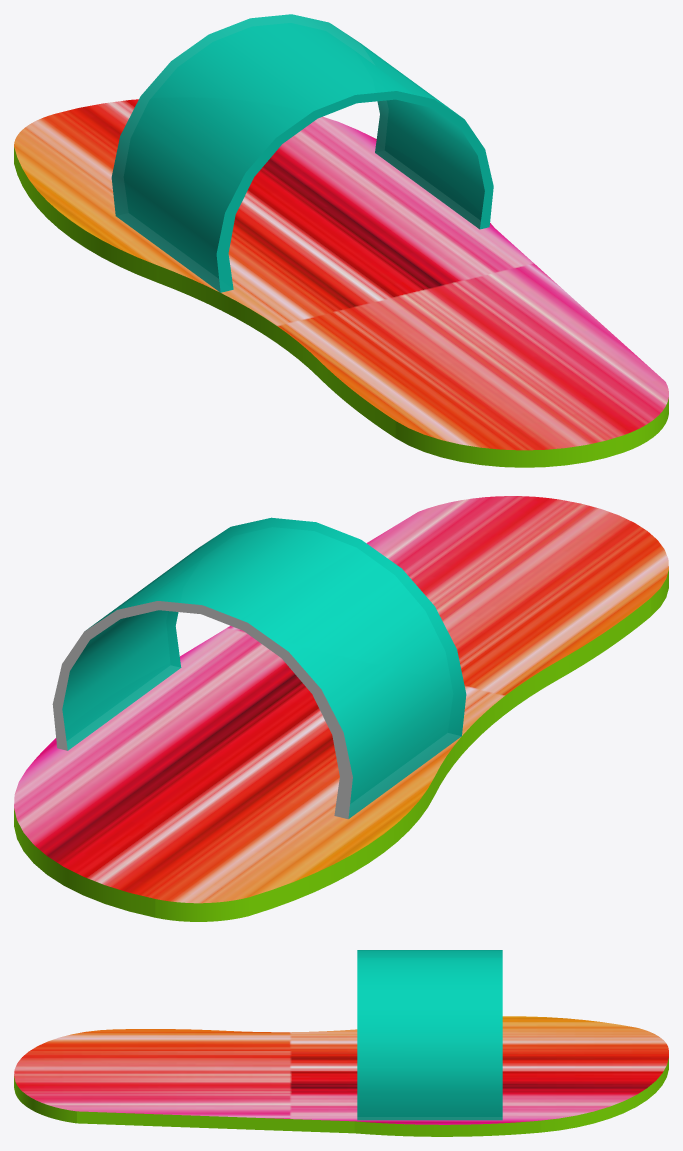
File: chala.dae
The picture shows the model from 3 angles, top to bottom: view 1: azimuth 30°, elevation 25°; view 2: azimuth 150°, elevation 25°; view 3: azimuth 270°, elevation 25°; orthographic projection. The views are drawn at different scales.
Visible parts, largest first — view 1: SketchUp (×5); view 2: SketchUp (×5); view 3: SketchUp (×3).
Part boxes in pixels (<box>): SketchUp (×5): <box>14,14,668,467</box>; SketchUp (×5): <box>14,496,668,921</box>; SketchUp (×3): <box>14,950,668,1136</box>.
Bounding box in the file's own units: 7.61 × 19.43 × 4.13.
Materials: 4 (1 with a texture image).
